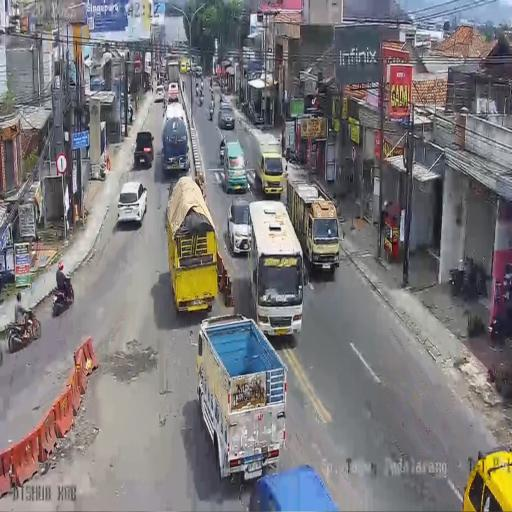car: (228, 197, 252, 256), (118, 180, 148, 226), (222, 140, 246, 194), (134, 130, 154, 169), (218, 104, 235, 130), (121, 91, 132, 123), (167, 82, 179, 103), (155, 84, 165, 102), (180, 58, 188, 73), (194, 65, 202, 76)
motorcycle: (6, 308, 41, 351), (52, 276, 74, 316), (490, 300, 512, 339), (284, 145, 296, 163), (209, 98, 215, 121), (197, 90, 204, 106), (220, 79, 224, 94), (150, 80, 154, 93)
truck: (195, 314, 288, 486), (165, 175, 218, 315), (286, 178, 340, 276), (242, 122, 284, 198), (161, 104, 189, 174)
